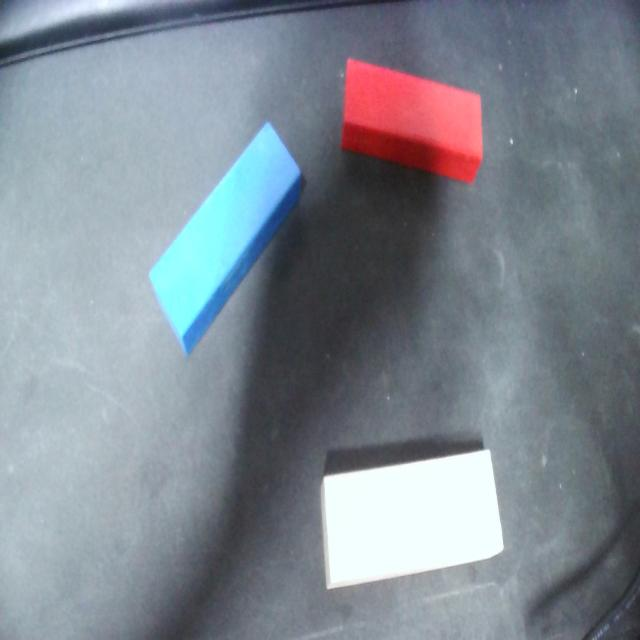blue: (123, 117, 328, 358)
red: (321, 57, 499, 188)
wood: (307, 447, 511, 591)
